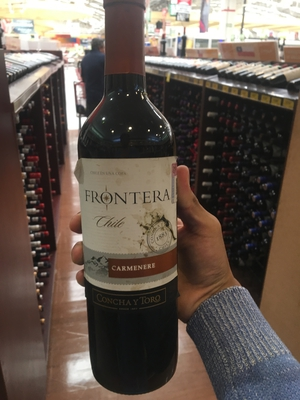frontera carmenere: (71, 20, 194, 386)
